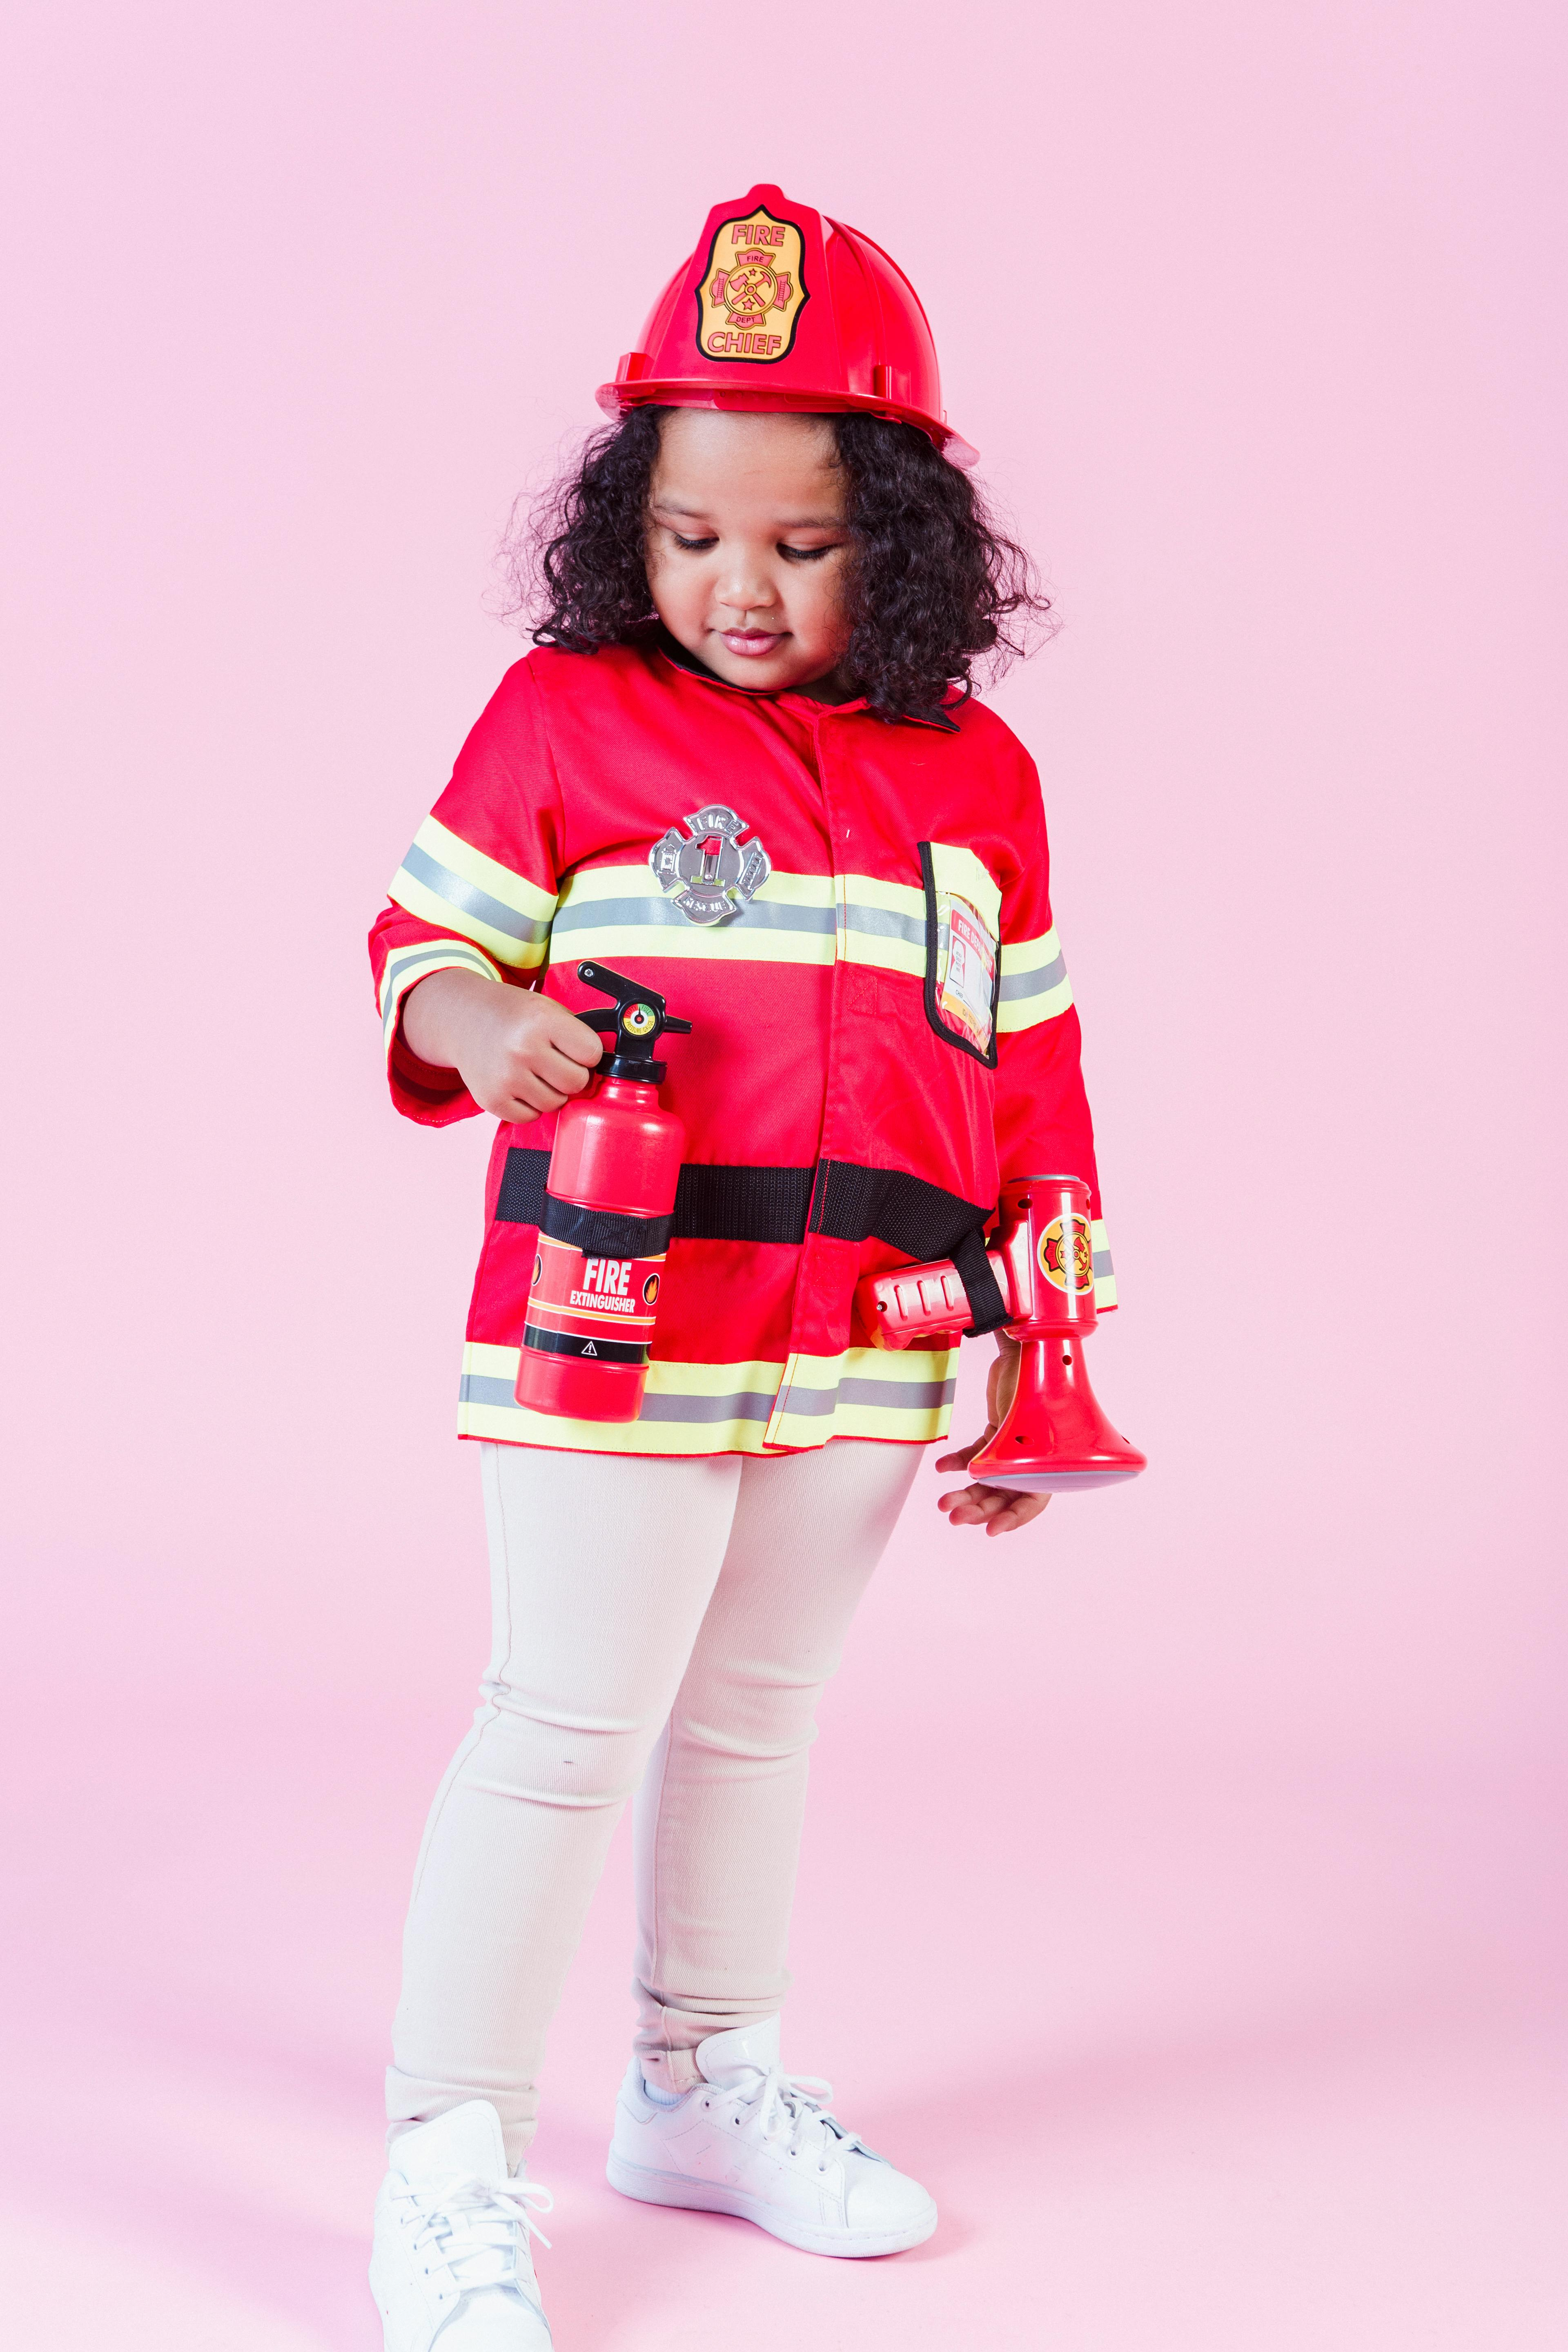extintor: (514, 955, 702, 1437)
